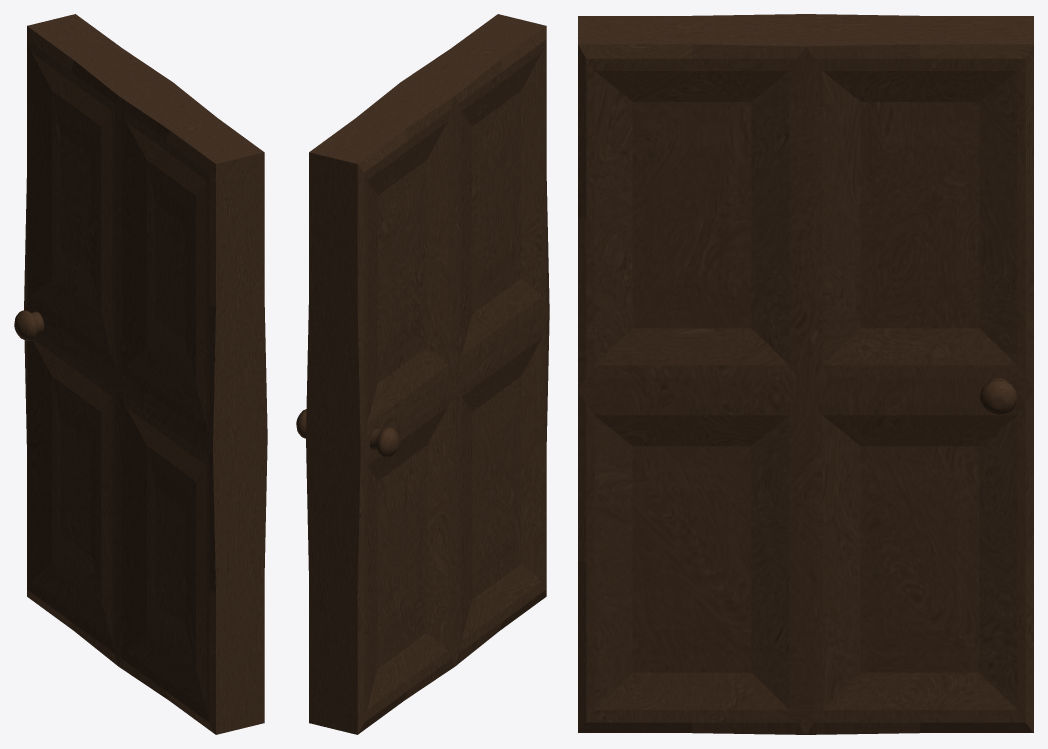
File: WoodDoor.fbx
3 renders of one model, left to right at view 1: azimuth 30°, elevation 25°; view 2: azimuth 150°, elevation 25°; view 3: azimuth 270°, elevation 25°, orthographic. The views are drawn at different scales.
Visible parts, largest first — view 1: Door, Handle; view 2: Door, Handle; view 3: Door, Handle.
Part boxes in pixels (<box>): Door: <box>24,14,267,734</box>; Handle: <box>14,310,44,341</box>; Door: <box>306,14,549,734</box>; Handle: <box>296,409,399,457</box>; Door: <box>578,14,1033,734</box>; Handle: <box>979,378,1017,415</box>.
Bounding box in the file's own units: 89.95 × 500 × 300.
